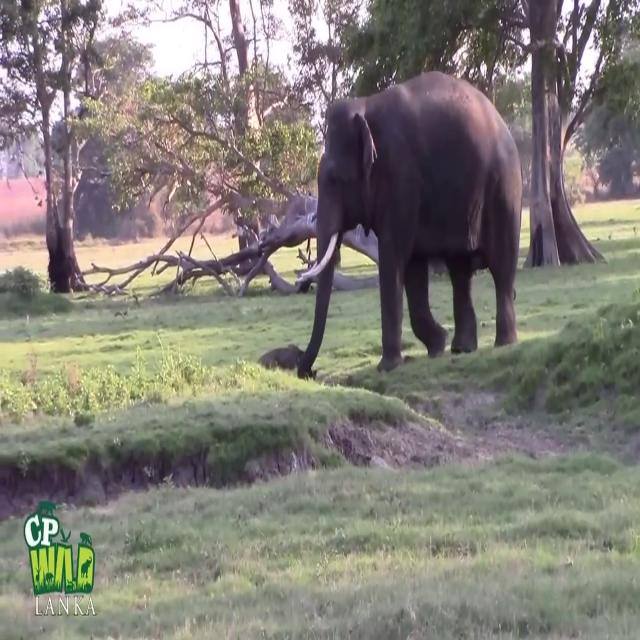Elephant: (295, 70, 523, 380)
